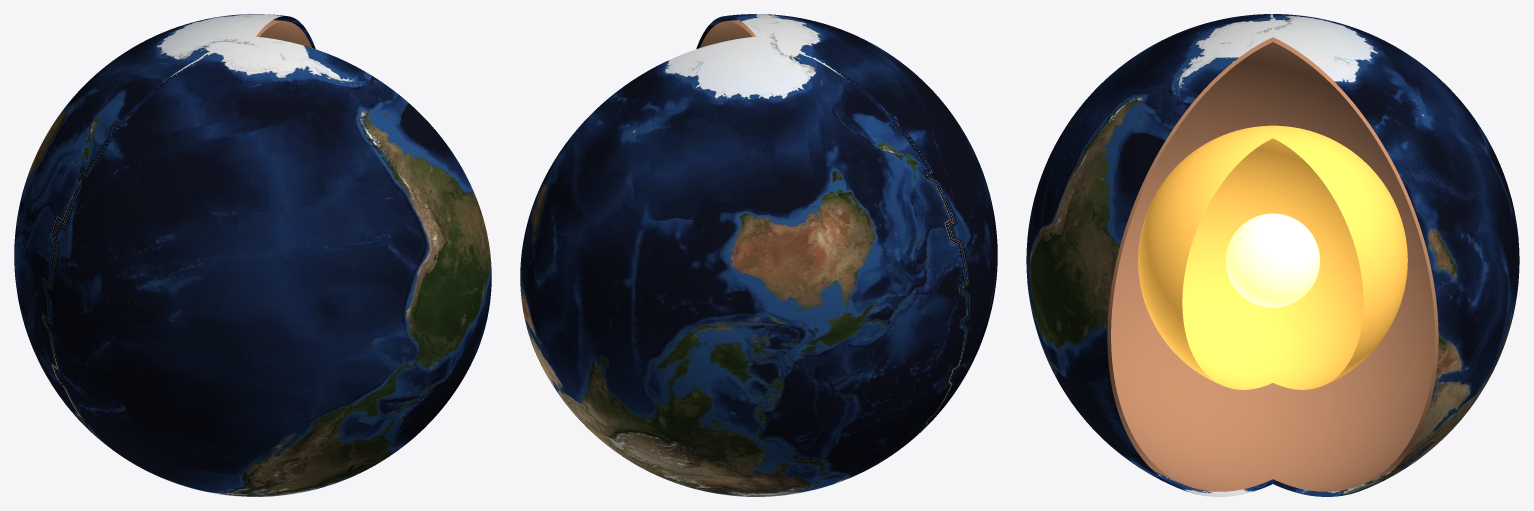
Rendered from earth-interior.glb.
3 views of the same model, side by side, from view 1: azimuth 30°, elevation 25°; view 2: azimuth 150°, elevation 25°; view 3: azimuth 270°, elevation 25° (orthographic). The views are drawn at different scales.
Parts seen in each view (by area): view 1: Interior_Crust, Interior_Mantle; view 2: Interior_Crust, Interior_Mantle; view 3: Interior_Crust, Interior_Mantle, Interior_OuterCore, Interior_InnerCore.
Part boxes in pixels (box(x1,y1,x2,y2)): Interior_Crust: box(14, 14, 491, 496); Interior_Mantle: box(256, 20, 311, 47); Interior_Crust: box(520, 14, 997, 496); Interior_Mantle: box(700, 20, 755, 47); Interior_Crust: box(1026, 14, 1519, 496); Interior_Mantle: box(1107, 37, 1438, 491); Interior_OuterCore: box(1138, 125, 1407, 389); Interior_InnerCore: box(1226, 213, 1319, 307).
Bounding box in the file's own units: 1.74 × 2 × 2.
4 materials, 1 textured.
